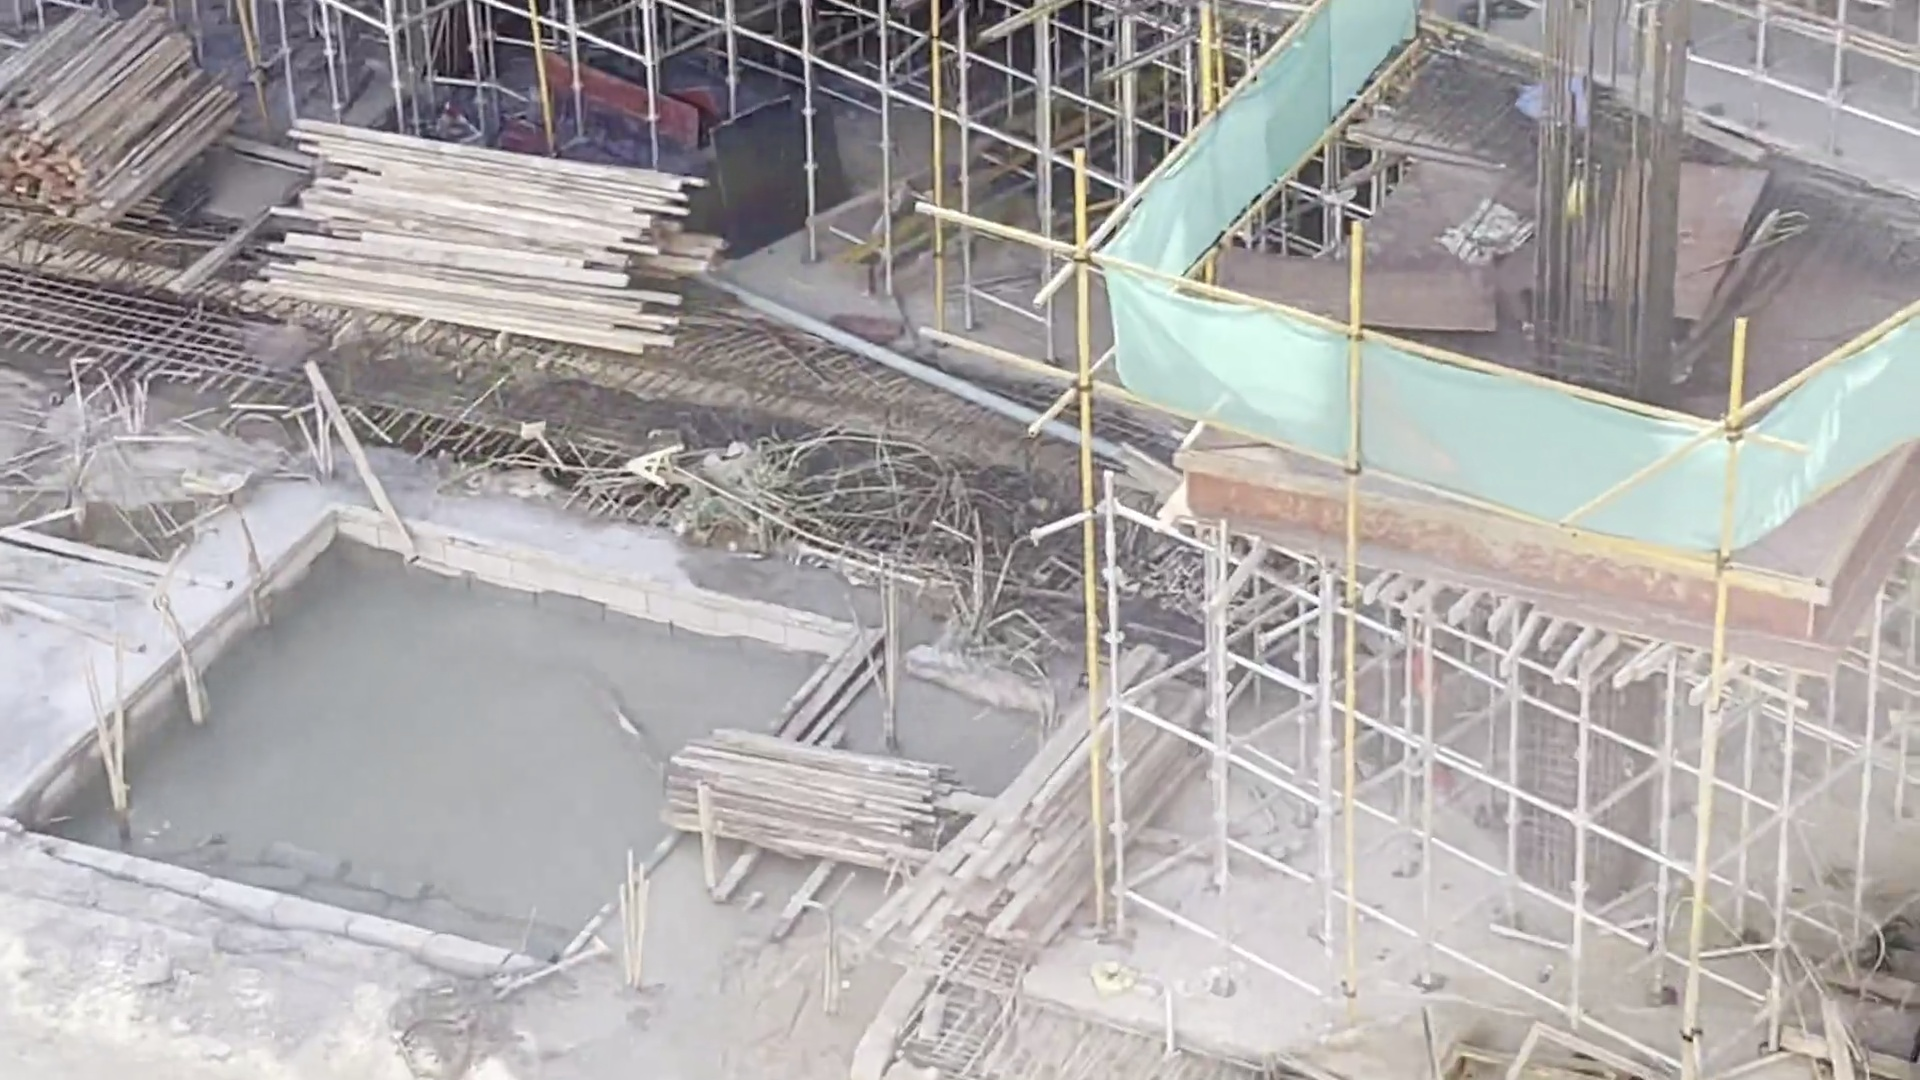wood: (256, 102, 711, 368), (1, 1, 232, 239), (655, 720, 938, 872)
